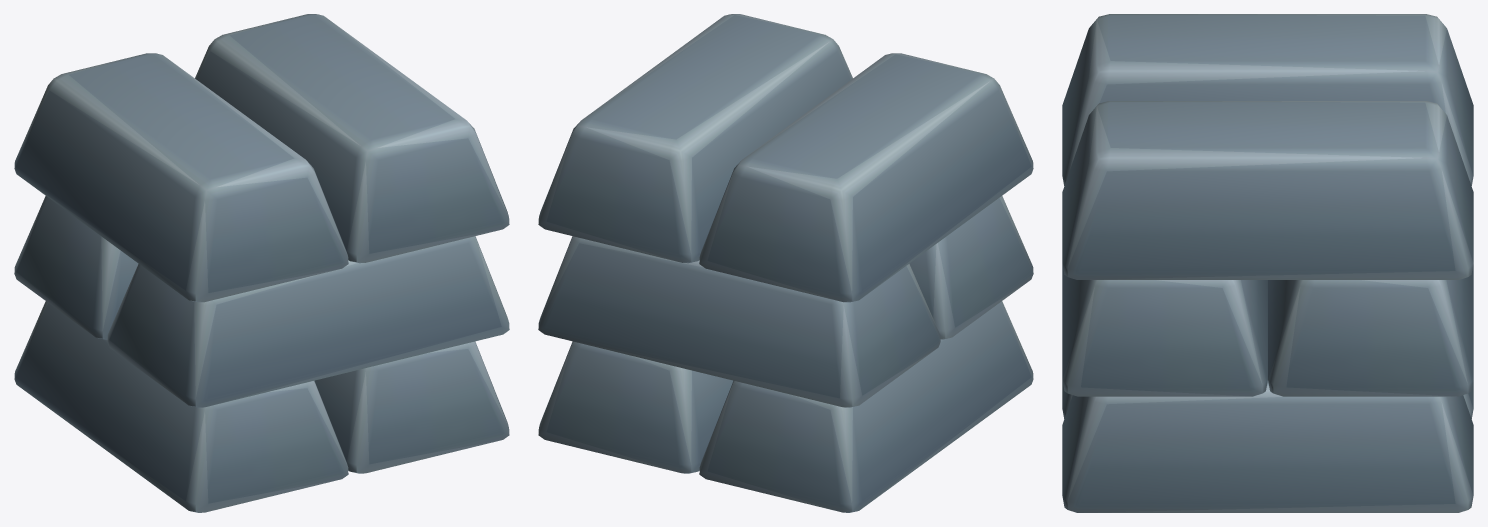
Rendered from iron-bars-stack-small.glb.
The picture shows the model from 3 angles, left to right: view 1: azimuth 30°, elevation 25°; view 2: azimuth 150°, elevation 25°; view 3: azimuth 270°, elevation 25°; orthographic projection. The views are drawn at different scales.
Visible parts, largest first — view 1: Iron_Bars_Stack_Small; view 2: Iron_Bars_Stack_Small; view 3: Iron_Bars_Stack_Small.
Boxes of the visible parts, x1,y1,x2,y2 form: Iron_Bars_Stack_Small: (14,14,509,512); Iron_Bars_Stack_Small: (538,14,1033,512); Iron_Bars_Stack_Small: (1062,14,1473,512).
Bounding box in the file's own units: 0.8 × 0.75 × 0.8.
Materials: 1 (1 with a texture image).
